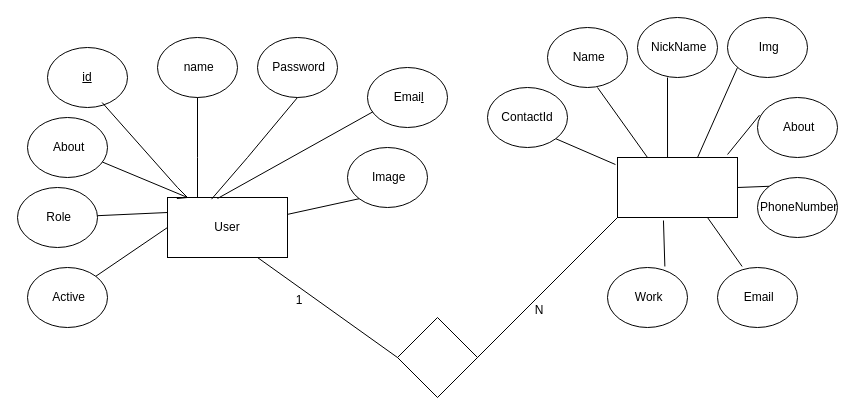
Some shapes in this 855 by 415 pixel diagram are drawn without their labels. Here are the shapes that lost their labels. From the top down, the centre of each, then its label:
point 677,187: Contact
point 437,357: Has
